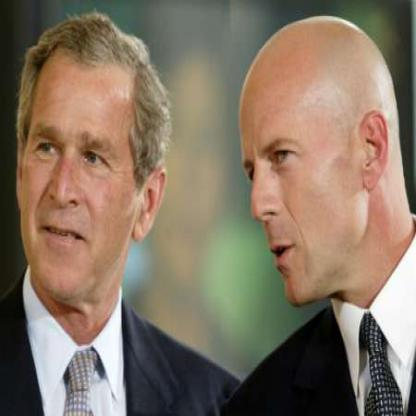face: (224, 42, 364, 311), (19, 13, 146, 304)
